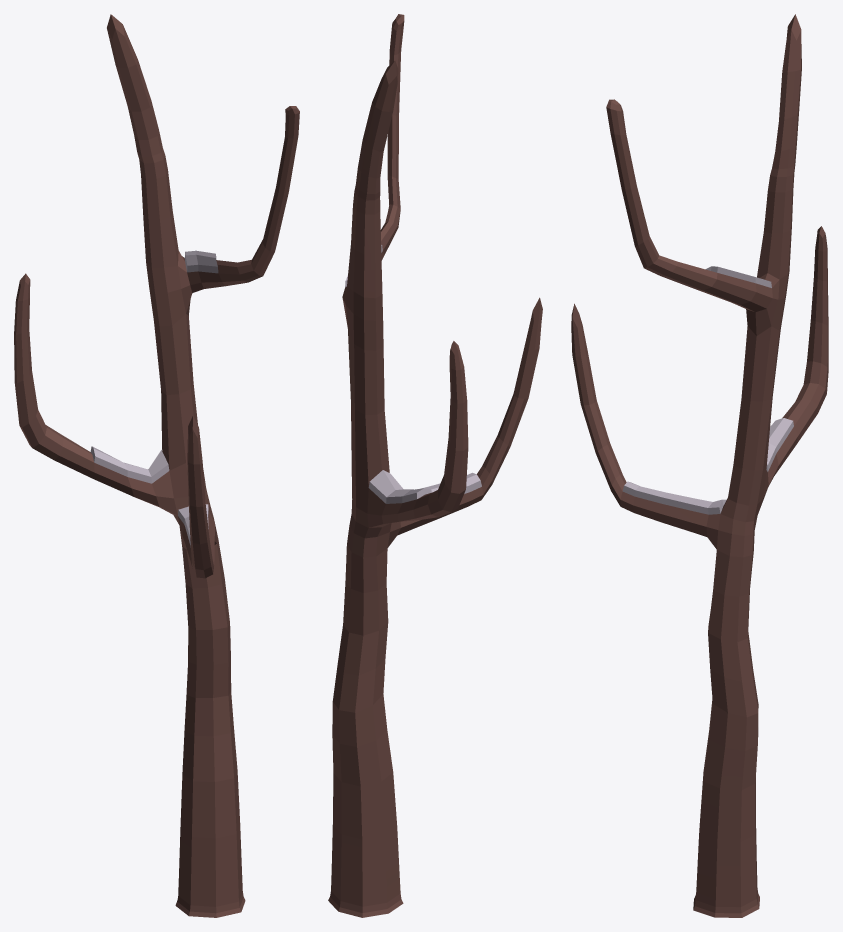
Rendered from commontree_dead_snow_3.glb.
3 views of the same model, side by side, from view 1: azimuth 30°, elevation 25°; view 2: azimuth 150°, elevation 25°; view 3: azimuth 270°, elevation 25° (orthographic). The views are drawn at different scales.
Visible parts, largest first — view 1: CommonTree_Dead_Snow_3; view 2: CommonTree_Dead_Snow_3; view 3: CommonTree_Dead_Snow_3.
Boxes of the visible parts, x1,y1,x2,y2 form: CommonTree_Dead_Snow_3: [14, 14, 299, 917]; CommonTree_Dead_Snow_3: [328, 14, 542, 917]; CommonTree_Dead_Snow_3: [571, 14, 828, 917].
Size of the model in its own units: 0.6352 by 3 by 0.8125.
